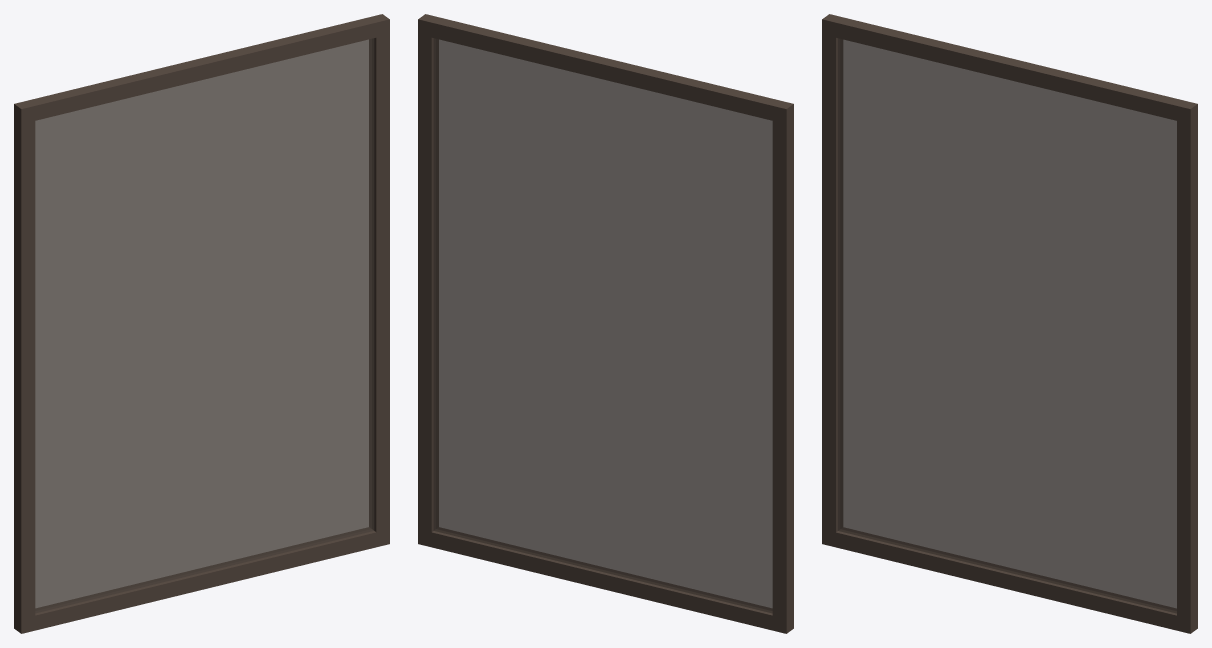
Rendered from Door_Entrance_L.glb.
3 renders of one model, left to right at view 1: azimuth 30°, elevation 25°; view 2: azimuth 150°, elevation 25°; view 3: azimuth 330°, elevation 25°, orthographic.
Parts seen in each view (by area): view 1: DoorLeft; view 2: DoorLeft; view 3: DoorLeft.
Boxes of the visible parts, x1=… form: DoorLeft: x1=14, y1=14, x2=389, y2=633; DoorLeft: x1=418, y1=14, x2=793, y2=633; DoorLeft: x1=822, y1=14, x2=1197, y2=633.
Size of what is drawn, in the model's own units: 3.98 by 5.41 by 0.1366.
2 materials, 2 textured.
